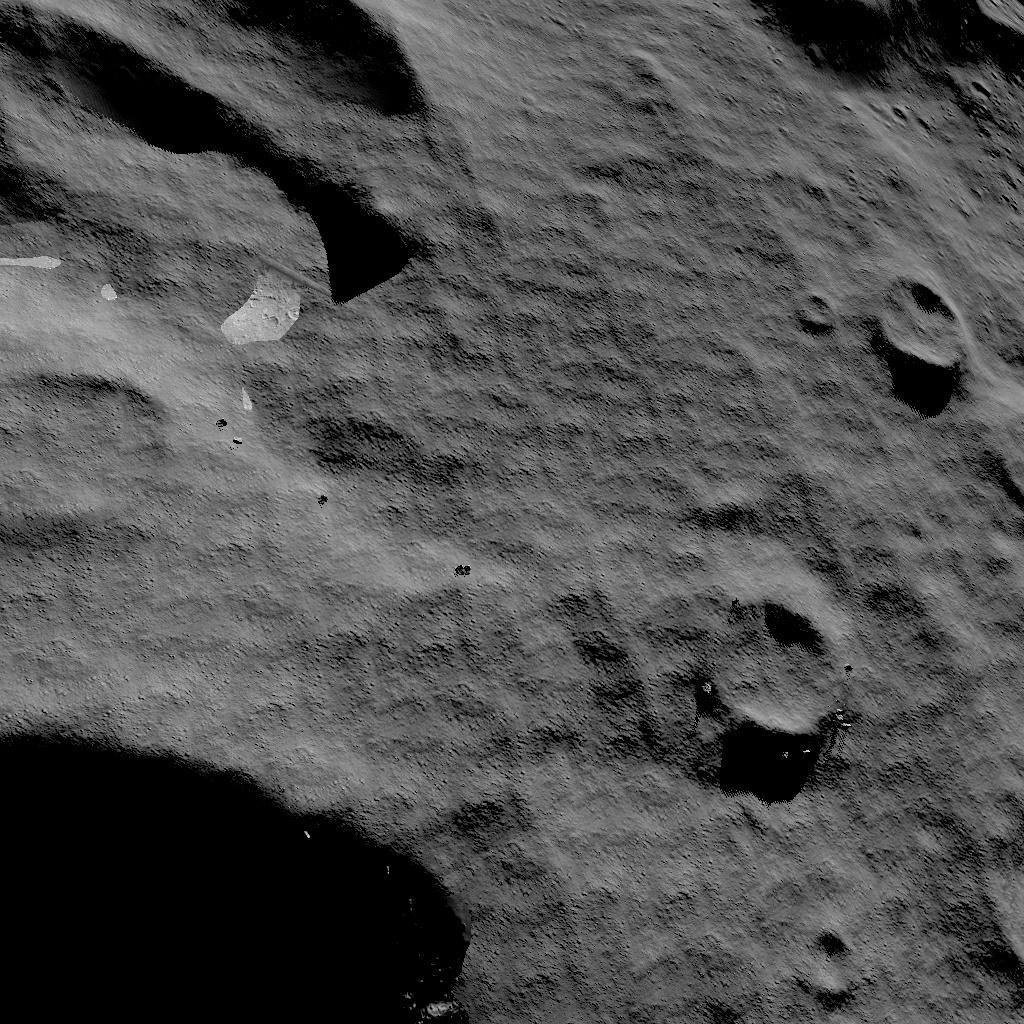Crater: (0, 681, 495, 1024), (0, 0, 411, 298), (0, 346, 167, 544), (695, 585, 857, 742), (924, 752, 1024, 976), (872, 246, 989, 394), (781, 912, 853, 984), (798, 280, 841, 334)
Plan surface: (426, 0, 755, 486), (519, 758, 749, 1024)
